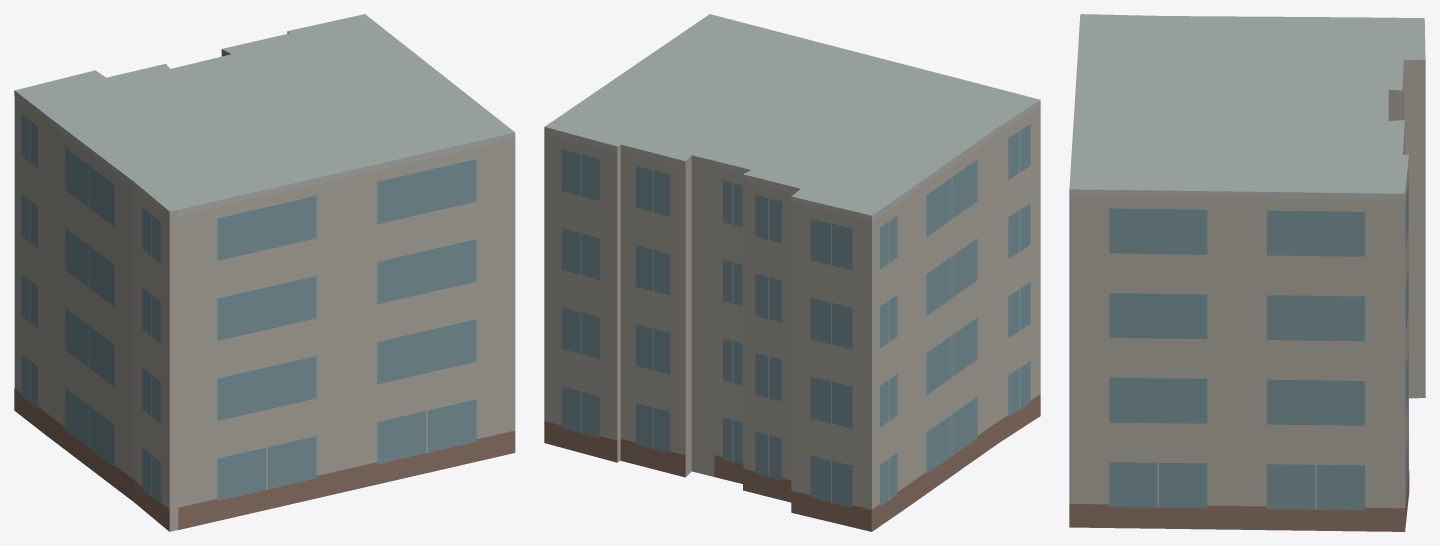
The model's file is survey-upis-32653887.glb.
3 views of the same model, side by side, from view 1: azimuth 30°, elevation 25°; view 2: azimuth 150°, elevation 25°; view 3: azimuth 270°, elevation 25° (orthographic). The views are drawn at different scales.
Visible parts, largest first — view 1: survey-upis-32653887.tmp; view 2: survey-upis-32653887.tmp; view 3: survey-upis-32653887.tmp.
Part boxes in pixels (x1,y1,x2,y2): survey-upis-32653887.tmp: [14, 14, 515, 531]; survey-upis-32653887.tmp: [544, 14, 1040, 531]; survey-upis-32653887.tmp: [1069, 14, 1425, 531].
Size of the model in its own units: 14.72 by 12.9 by 12.33.
